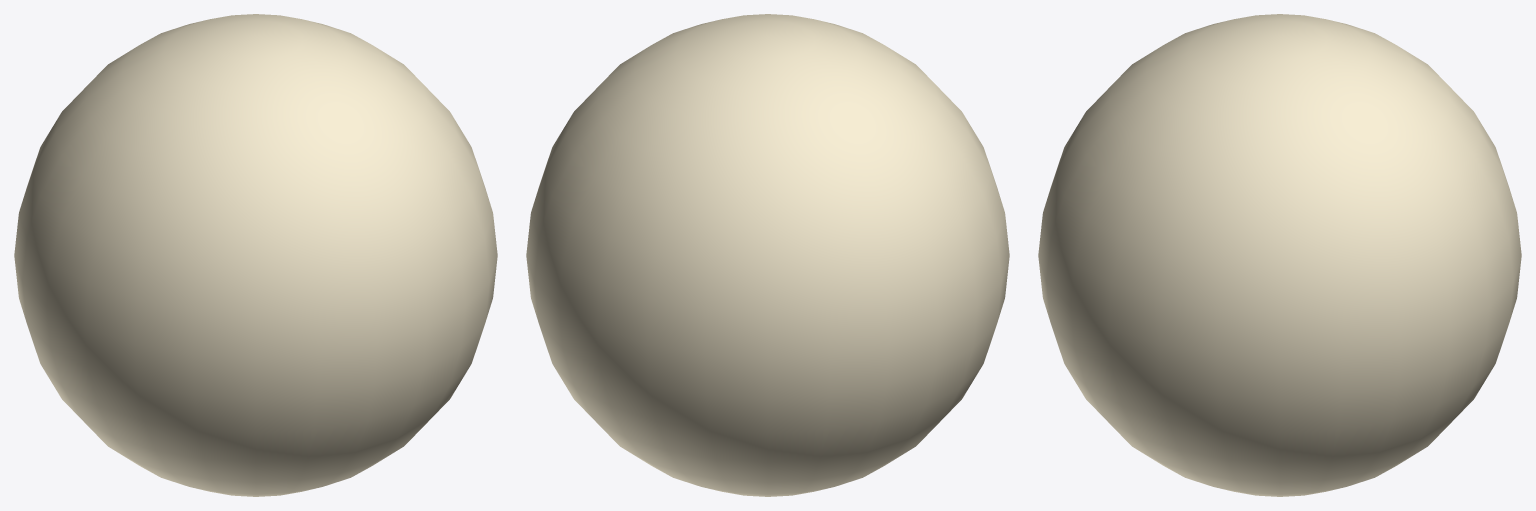
Rendered from animal_cell.glb.
The picture shows the model from 3 angles, left to right: view 1: azimuth 30°, elevation 25°; view 2: azimuth 150°, elevation 25°; view 3: azimuth 270°, elevation 25°; orthographic projection.
Parts seen in each view (by area): view 1: membrane; view 2: membrane; view 3: membrane.
Boxes of the visible parts, box(x1,y1,x2,y2) form: membrane: box(14, 14, 497, 496); membrane: box(526, 14, 1009, 496); membrane: box(1038, 14, 1521, 496).
Bounding box in the file's own units: 1.7 × 1.7 × 1.7.
